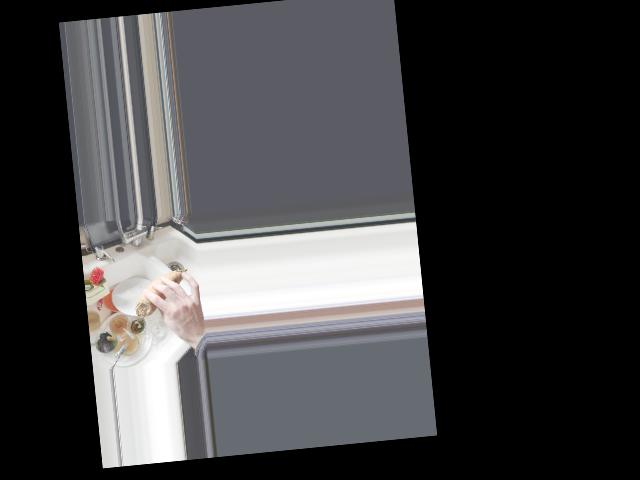sweet_potato: (133, 269, 192, 317)
